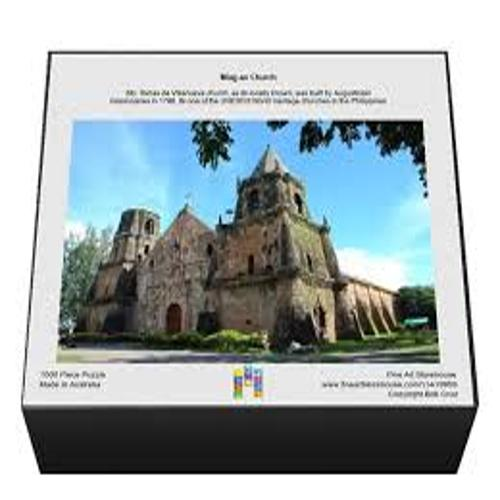Miagao Church: (76, 140, 343, 354)
